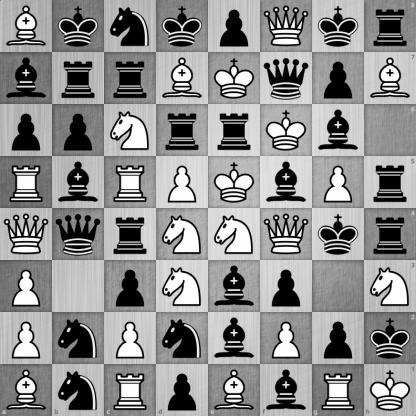B: (0, 364, 52, 416), (364, 52, 416, 104), (209, 364, 260, 416), (1, 1, 52, 52), (157, 53, 208, 104)
K: (364, 364, 416, 416), (209, 53, 260, 104), (209, 157, 260, 208), (261, 105, 312, 156)
N: (364, 260, 416, 312), (105, 105, 156, 156), (157, 209, 208, 260), (157, 261, 208, 312), (209, 209, 260, 260)
P: (1, 261, 52, 312), (1, 313, 52, 364), (105, 313, 156, 364), (157, 157, 208, 208), (261, 313, 312, 364), (313, 157, 364, 208)
Q: (1, 209, 52, 260), (261, 1, 312, 52), (261, 209, 312, 260)
R: (104, 364, 156, 416), (312, 364, 364, 416), (1, 157, 52, 208), (105, 157, 156, 208)
b: (260, 364, 312, 416), (1, 53, 52, 104), (53, 157, 104, 208), (209, 261, 260, 312), (209, 313, 260, 364), (261, 157, 312, 208), (313, 105, 364, 156)
board: (0, 0, 415, 415)
k: (364, 312, 416, 364), (53, 1, 104, 52), (157, 1, 208, 52), (313, 1, 364, 52), (313, 209, 364, 260)
n: (52, 364, 104, 416), (53, 313, 104, 364), (105, 1, 156, 52), (157, 313, 208, 364)
p: (156, 364, 209, 416), (1, 105, 52, 156), (53, 105, 104, 156), (105, 261, 156, 312), (209, 1, 260, 52), (261, 261, 312, 312), (313, 53, 364, 104), (313, 313, 364, 364)
q: (53, 209, 104, 260), (261, 53, 312, 104)
r: (364, 156, 416, 209), (364, 0, 416, 52), (364, 209, 416, 260), (53, 53, 104, 104), (105, 53, 156, 104), (105, 209, 156, 260), (157, 105, 208, 156), (209, 105, 260, 156)
